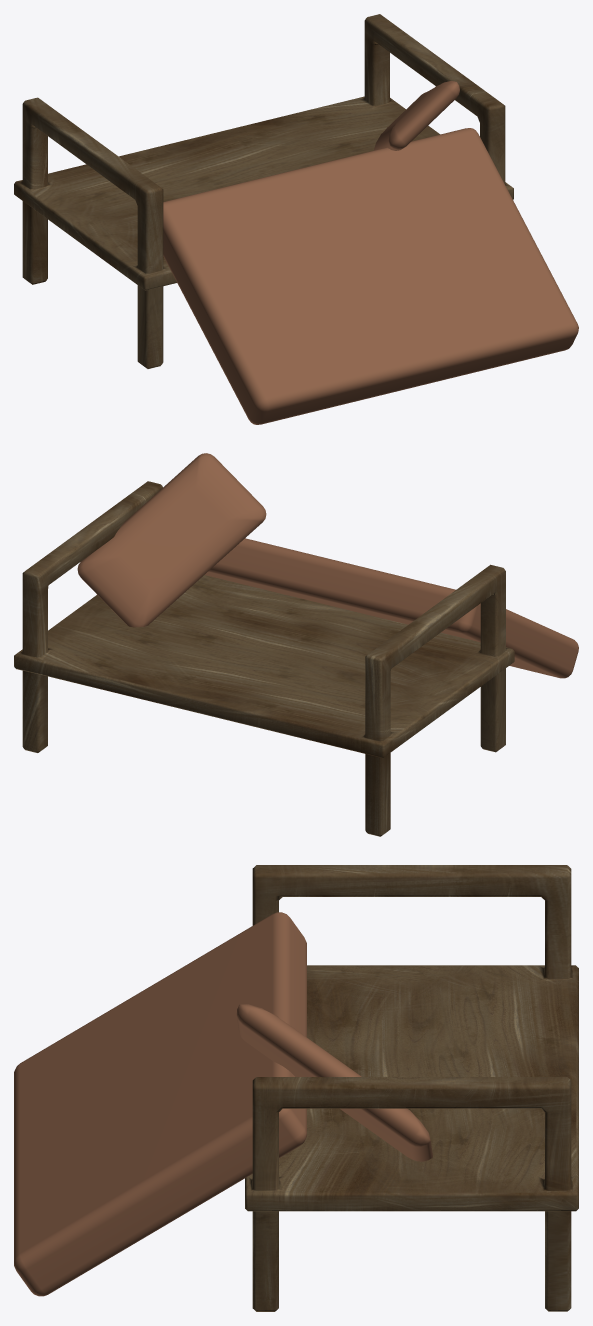
The model's file is BedServant3.fbx.
3 views of the same model, one above another, from view 1: azimuth 30°, elevation 25°; view 2: azimuth 150°, elevation 25°; view 3: azimuth 270°, elevation 25° (orthographic). The views are drawn at different scales.
Visible parts, largest first — view 1: Mattress, Frame, Pillow3; view 2: Frame, Pillow3, Mattress; view 3: Frame, Mattress, Pillow3.
Boxes of the visible parts, box(x1,y1,x2,y2) form: Mattress: box(163, 128, 578, 424); Frame: box(14, 14, 513, 368); Pillow3: box(374, 81, 459, 150); Frame: box(14, 481, 514, 836); Pillow3: box(77, 453, 266, 627); Mattress: box(204, 538, 578, 678); Frame: box(245, 865, 578, 1311); Mattress: box(14, 912, 306, 1296); Pillow3: box(236, 1004, 432, 1161).
Size of the model in its own units: 3.57 by 1.99 by 3.71.
